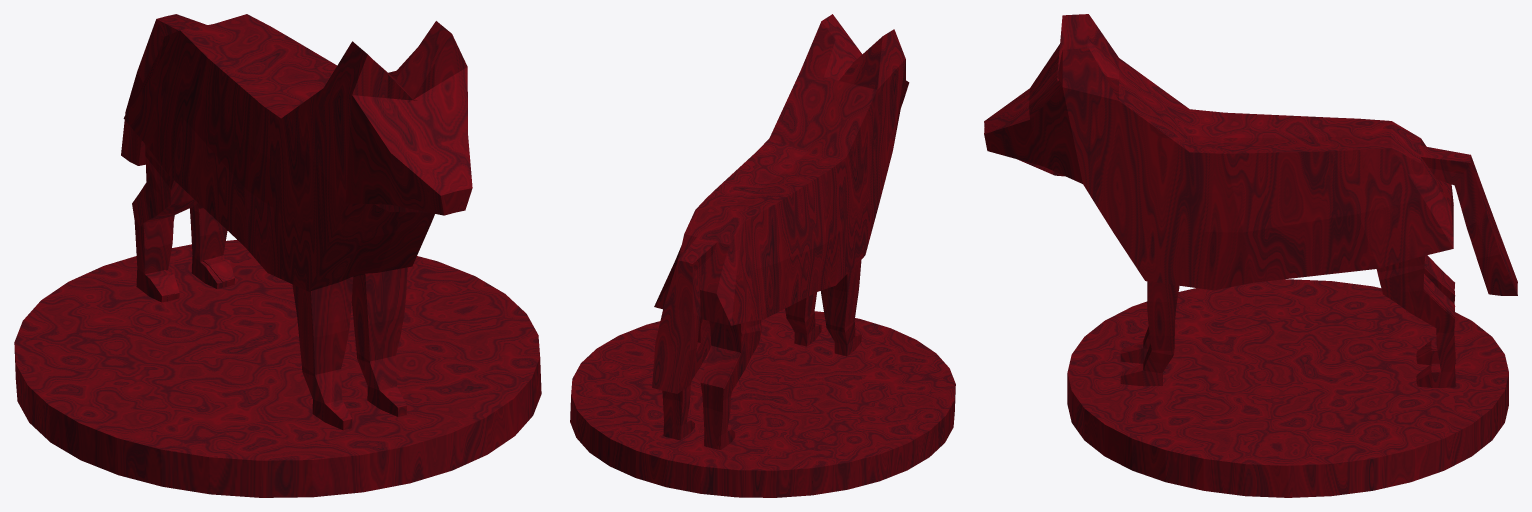
The model's file is PlaceholderRedDog.fbx.
3 views of the same model, side by side, from view 1: azimuth 30°, elevation 25°; view 2: azimuth 150°, elevation 25°; view 3: azimuth 270°, elevation 25° (orthographic). The views are drawn at different scales.
Visible parts, largest first — view 1: Cube; view 2: Cube; view 3: Cube.
Part boxes in pixels (box(x1,y1,x2,y2)): Cube: box(14, 14, 541, 497); Cube: box(570, 14, 955, 497); Cube: box(984, 14, 1517, 497).
Size of the model in its own units: 296 by 275 by 357.
Materials: 1 (1 with a texture image).
